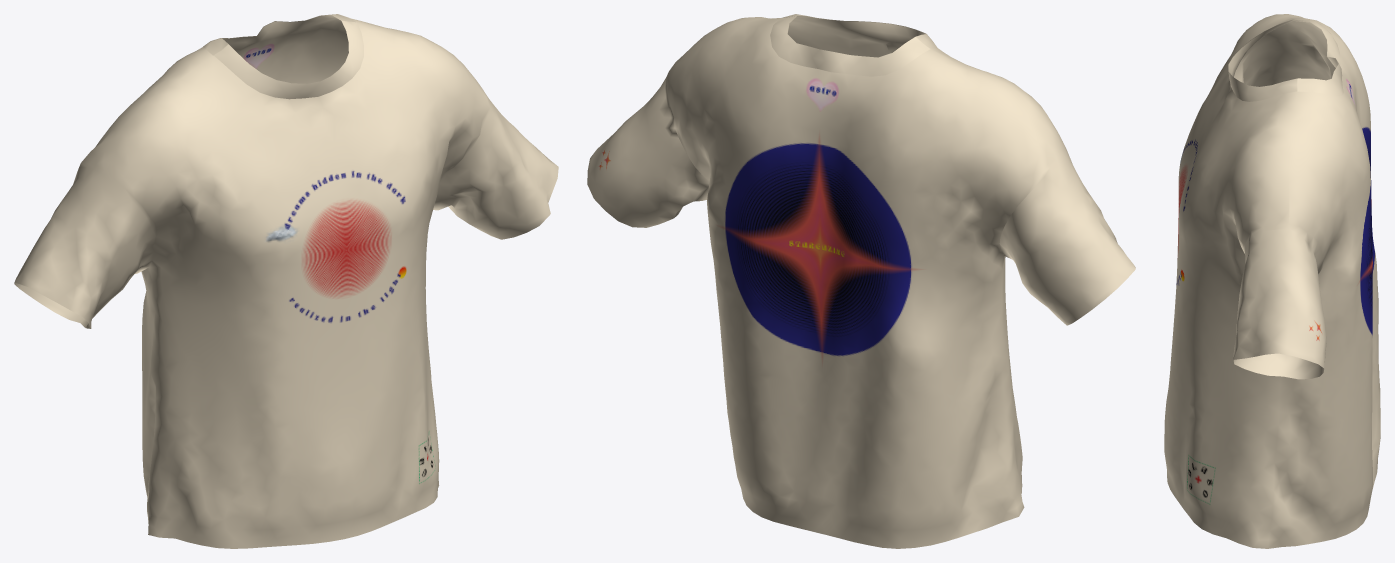
The model's file is tee.gltf.
3 renders of one model, left to right at view 1: azimuth 30°, elevation 25°; view 2: azimuth 150°, elevation 25°; view 3: azimuth 270°, elevation 25°, orthographic. The views are drawn at different scales.
Parts seen in each view (by area): view 1: IN_THE_DARK_TEE_V1; view 2: IN_THE_DARK_TEE_V1; view 3: IN_THE_DARK_TEE_V1.
Boxes of the visible parts, bbox=[...] form: IN_THE_DARK_TEE_V1: bbox=[14, 14, 558, 548]; IN_THE_DARK_TEE_V1: bbox=[587, 14, 1135, 548]; IN_THE_DARK_TEE_V1: bbox=[1164, 14, 1380, 548].
Size of the model in its own units: 7.46 by 6.4 by 2.78.
1 material, 1 textured.
